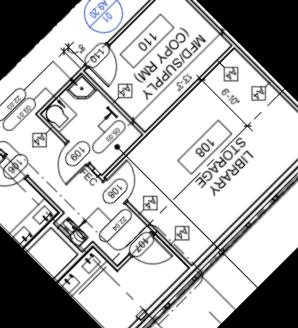door: (81, 39, 133, 90), (98, 159, 148, 209), (43, 139, 92, 188), (129, 232, 177, 280), (0, 152, 31, 203)
